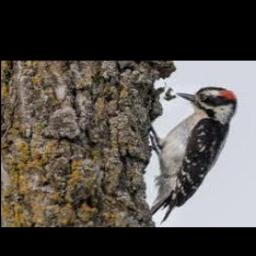Woodpecker: (149, 87, 238, 225)
